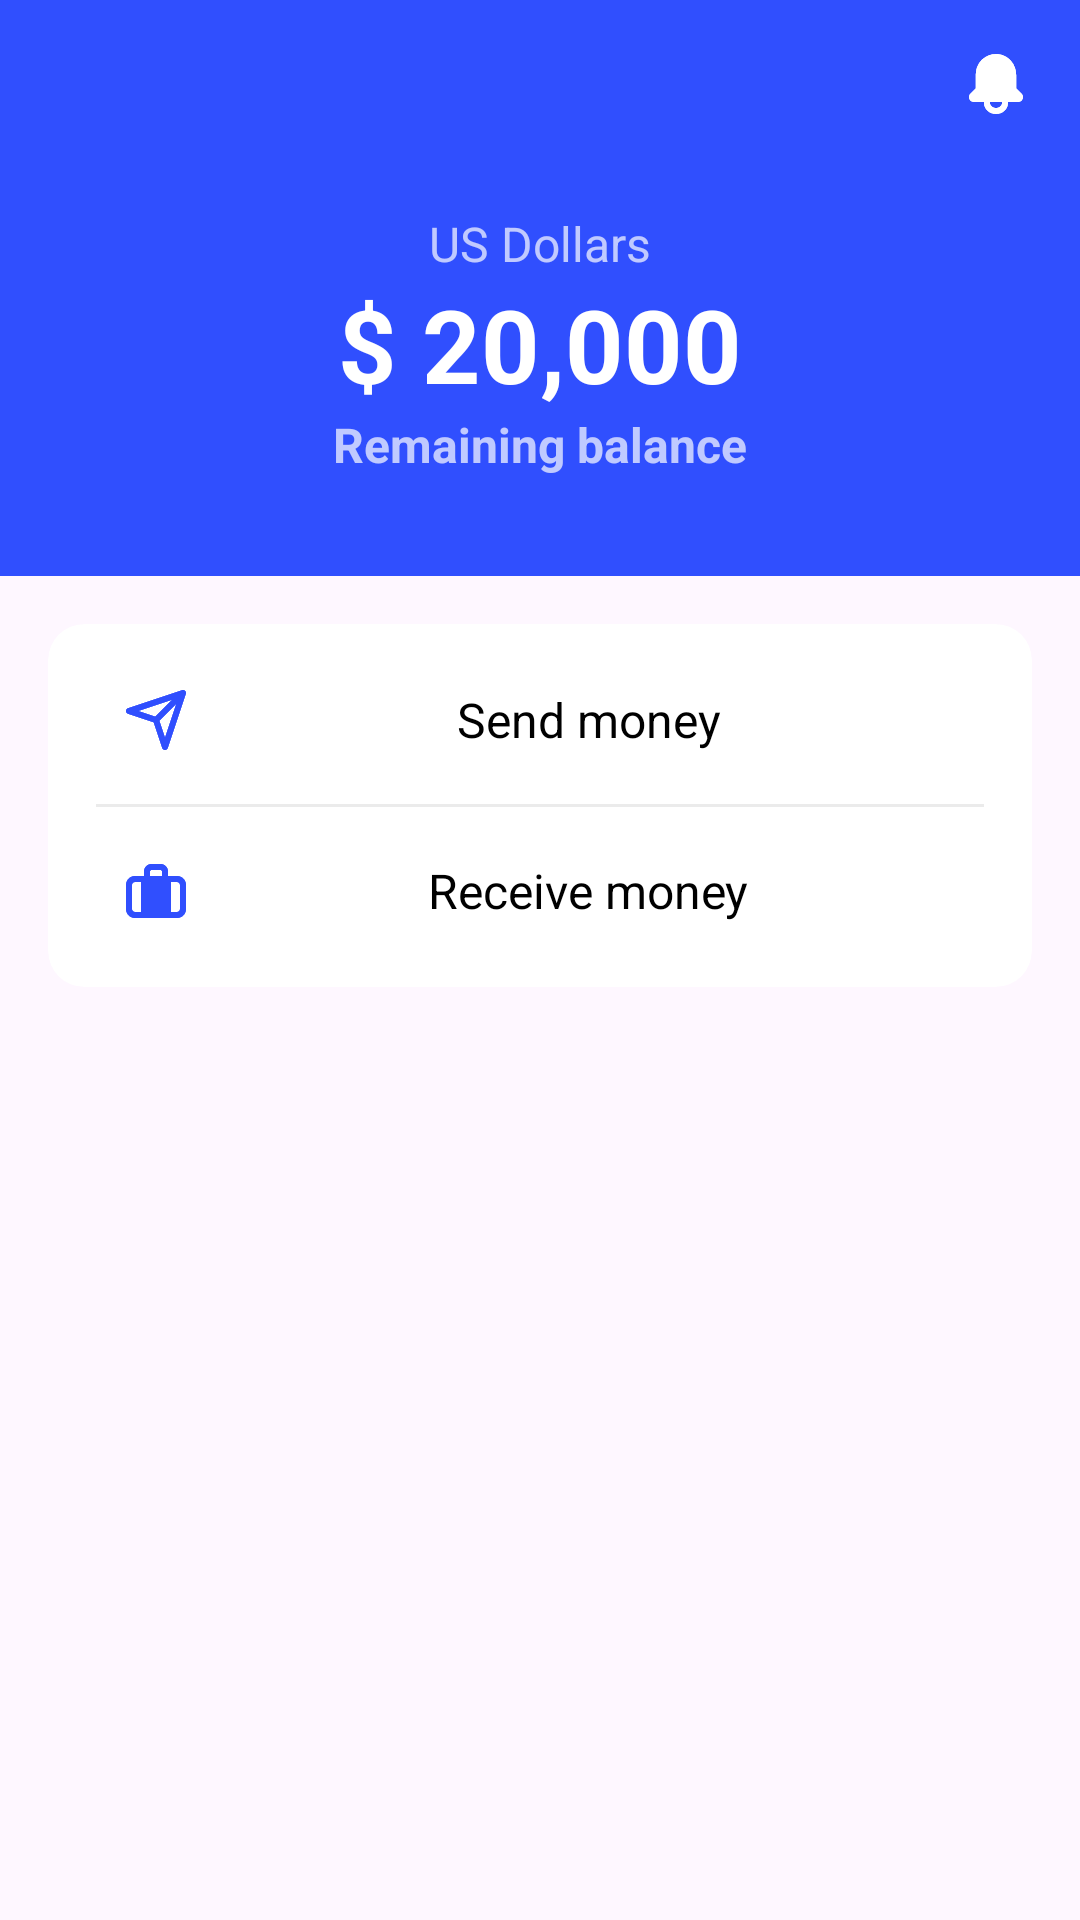

Screen size 1080 x 1920. Icon name, then its center in pixels as [x,y]:
bell: [996,84]
